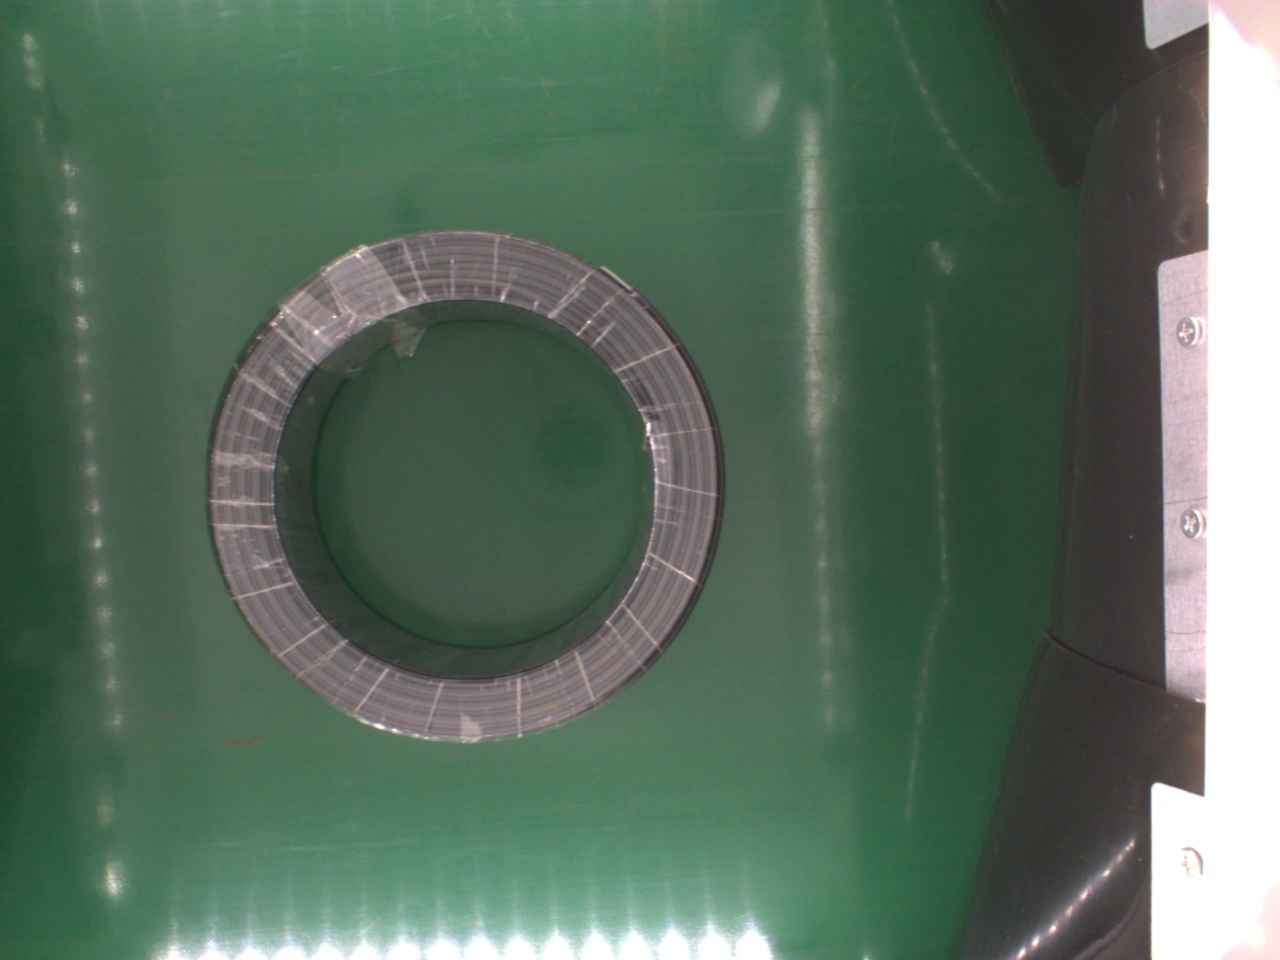black: (211, 229, 720, 741)
